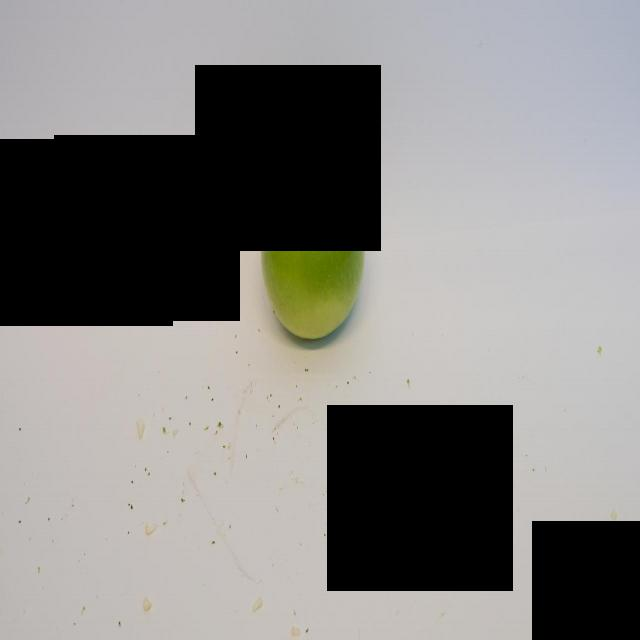apple: (262, 143, 368, 356)
